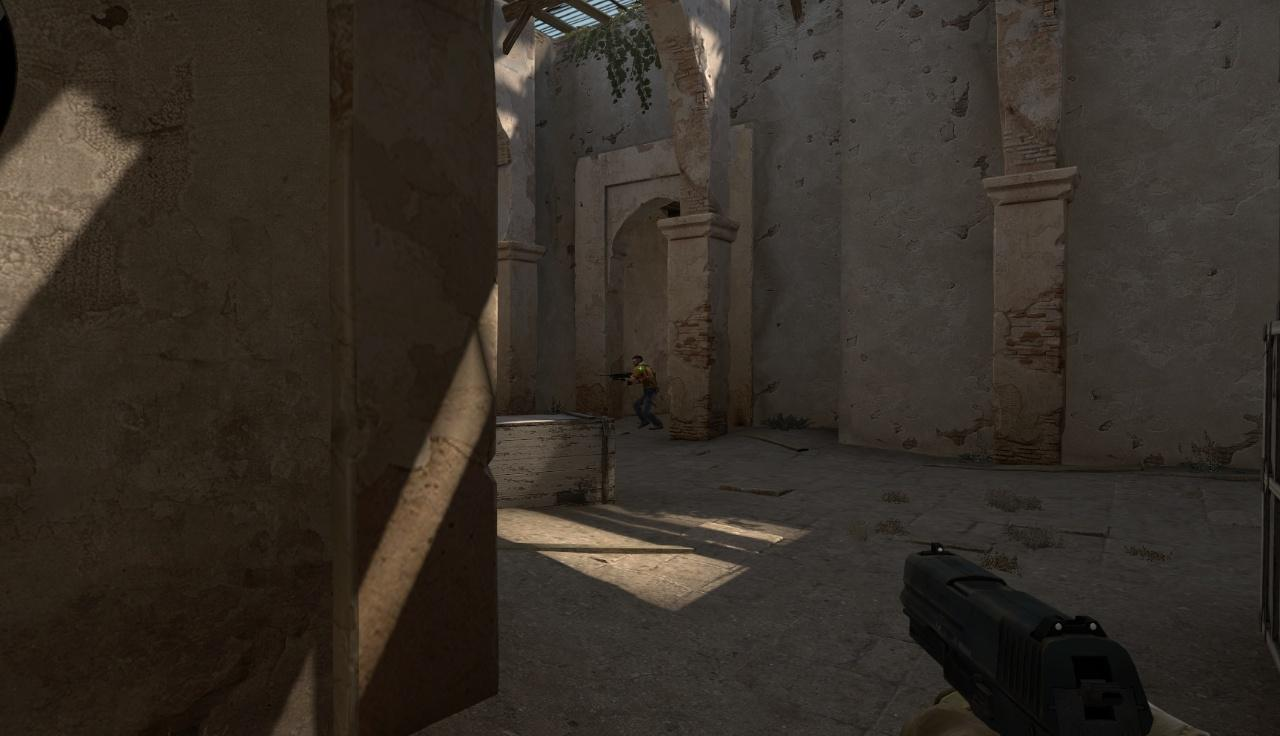pistol: (902, 543, 1221, 736)
tt: (627, 355, 663, 429)
tthead: (632, 355, 643, 366)
